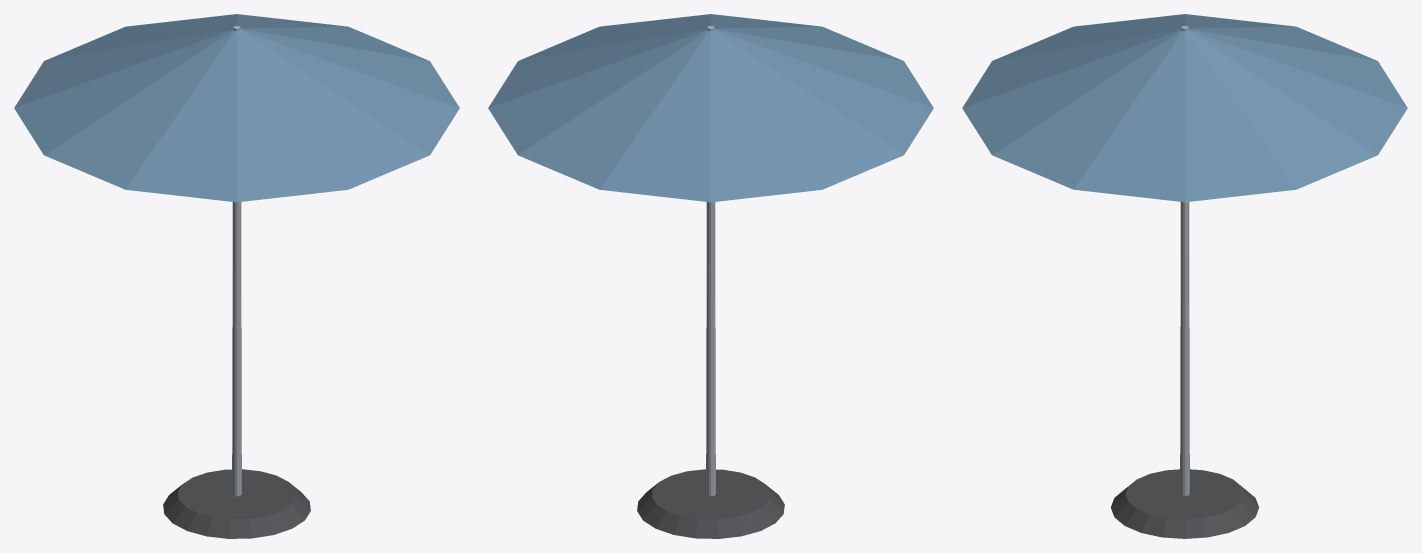
Rendered from motorcycle-racing-and-street-bikes-umbrella-ef9fbcd7.glb.
3 renders of one model, left to right at view 1: azimuth 30°, elevation 25°; view 2: azimuth 150°, elevation 25°; view 3: azimuth 270°, elevation 25°, orthographic.
Visible parts, largest first — view 1: umbrella; view 2: umbrella; view 3: umbrella.
Part boxes in pixels (x1=…): umbrella: x1=14, y1=14, x2=459, y2=538; umbrella: x1=488, y1=14, x2=933, y2=538; umbrella: x1=962, y1=14, x2=1407, y2=538.
Bounding box in the file's own units: 1.8 × 2.14 × 1.8.
